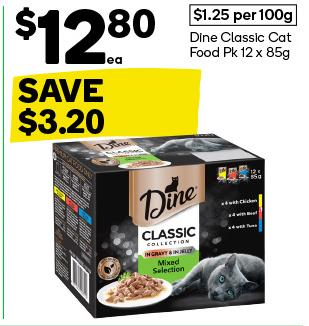description_block: (186, 27, 297, 61)
price_main: (8, 5, 170, 67)
product_image_block: (26, 134, 279, 316)
promo_text_block: (8, 70, 202, 137)
unit_price_block: (183, 0, 300, 27)
